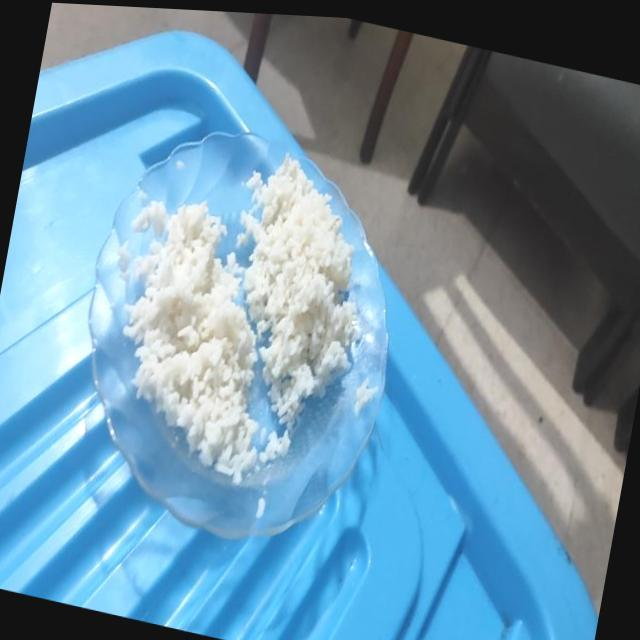nasi_putih: (124, 201, 258, 484), (238, 154, 358, 428)
